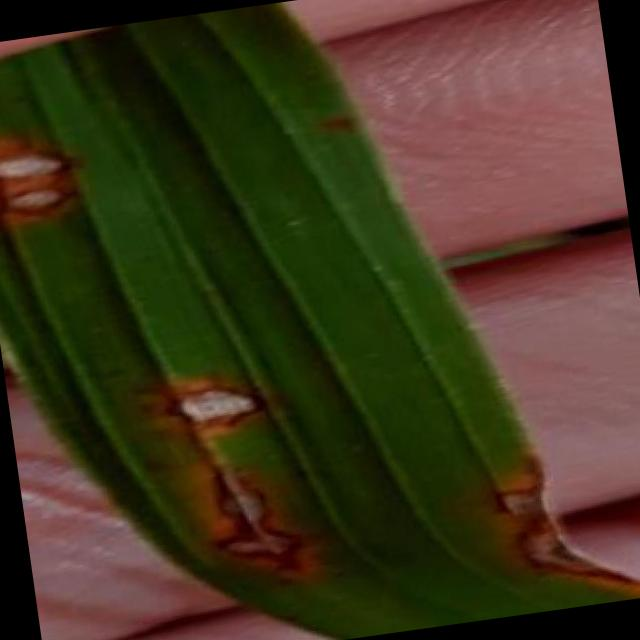Rice_Blast: (114, 324, 283, 458), (515, 509, 640, 612), (462, 432, 571, 542), (162, 456, 284, 536), (213, 512, 324, 588), (0, 125, 87, 196), (0, 176, 90, 232)
